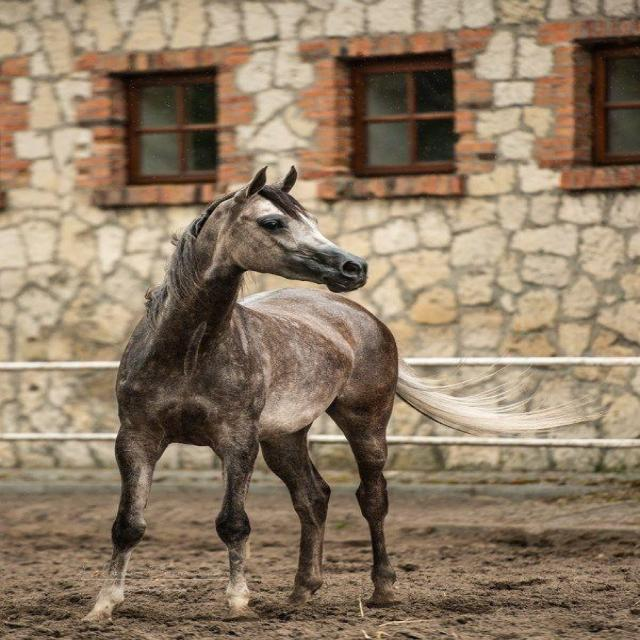horse: (80, 164, 613, 623)
